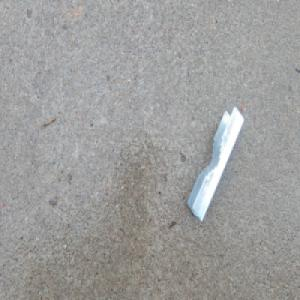ClampPart: (186, 105, 244, 225)
